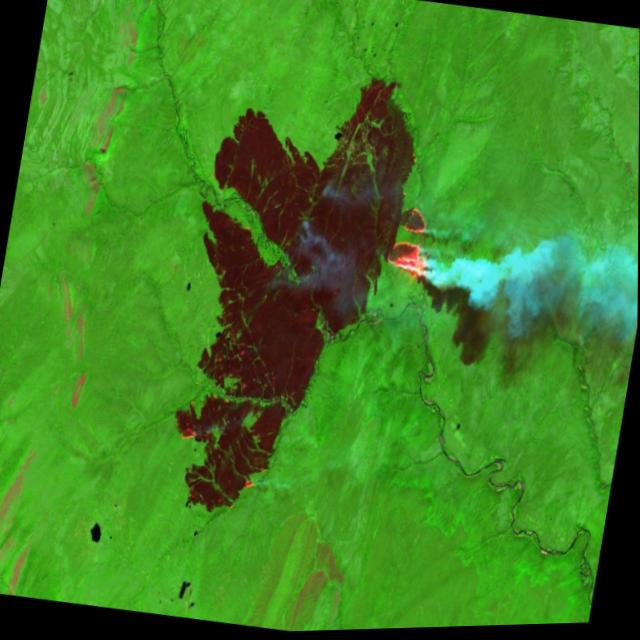fire: (375, 196, 445, 302)
